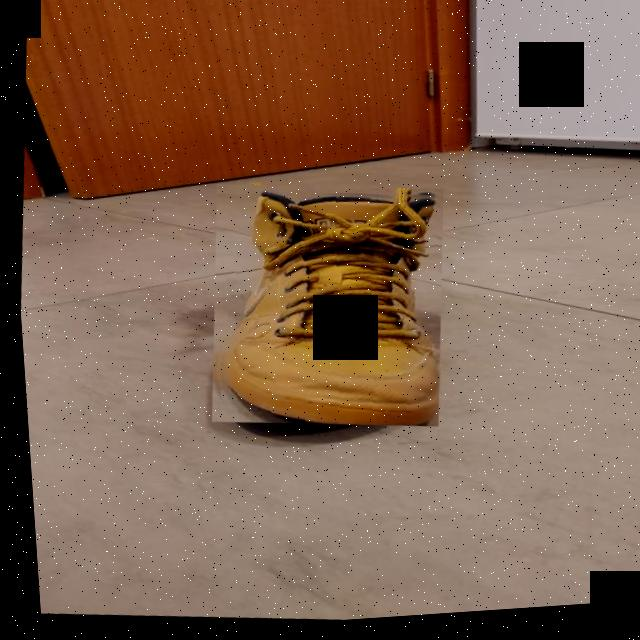shoe: (193, 175, 452, 444)
